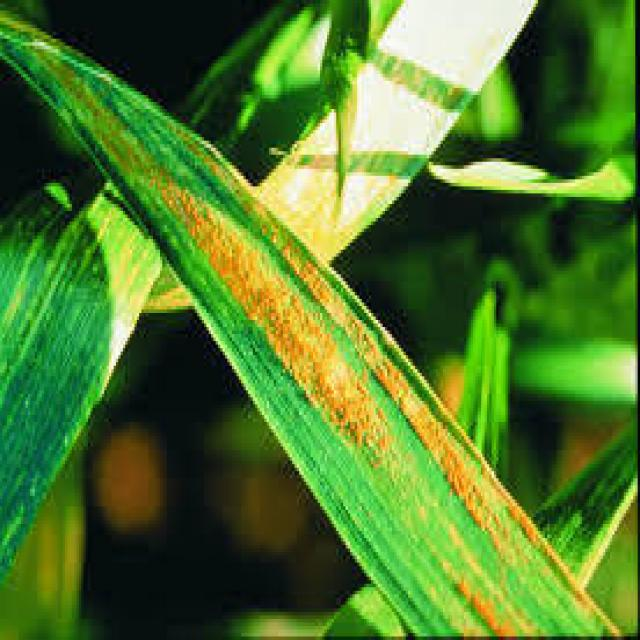wheat-yellowrust: (184, 140, 616, 627), (152, 185, 399, 472), (426, 556, 543, 639)
